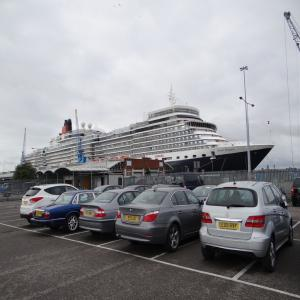Vehicle-registration-plate: (219, 223, 240, 230), (126, 216, 139, 222), (85, 212, 94, 216), (36, 212, 43, 217), (24, 202, 29, 206)
